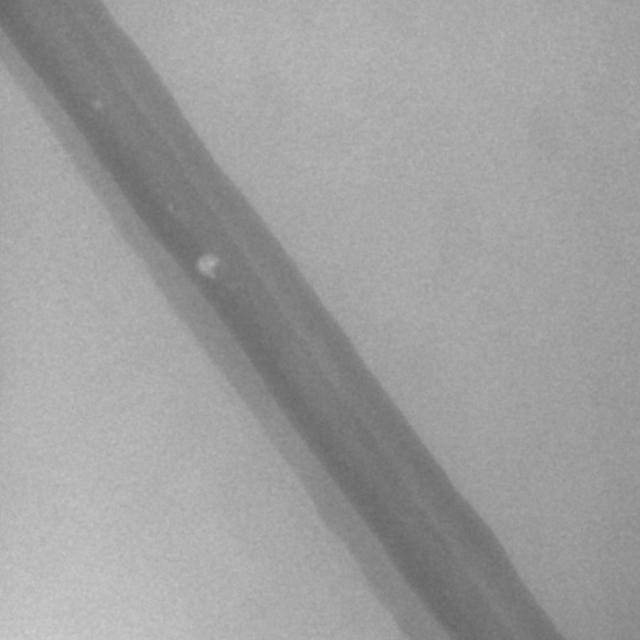air hole: (93, 97, 102, 109)
slag inclusion: (196, 254, 217, 278)
